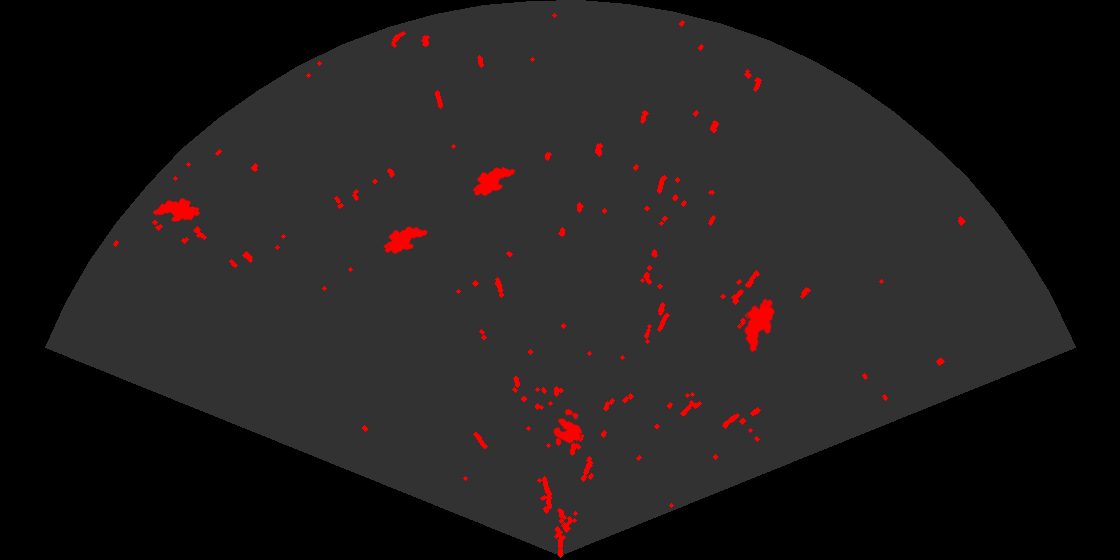AUV: (743, 297, 776, 354), (471, 165, 517, 198), (382, 225, 429, 255), (151, 197, 202, 223)
ball: (552, 407, 584, 445)
